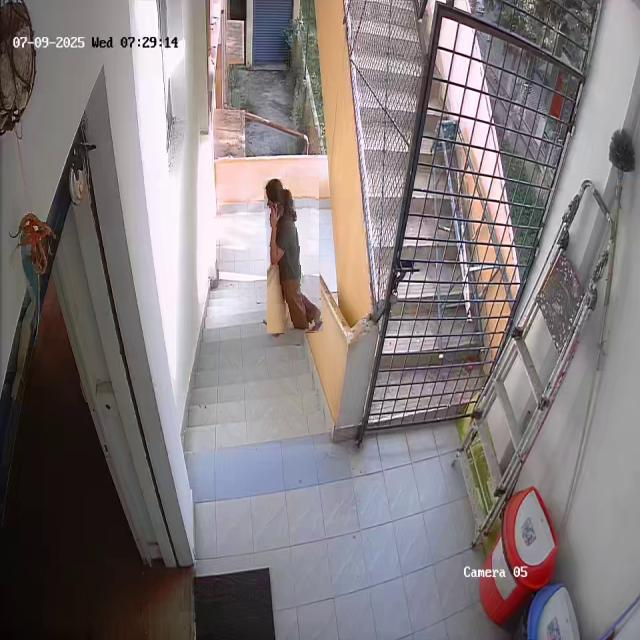person: (265, 177, 321, 334)
